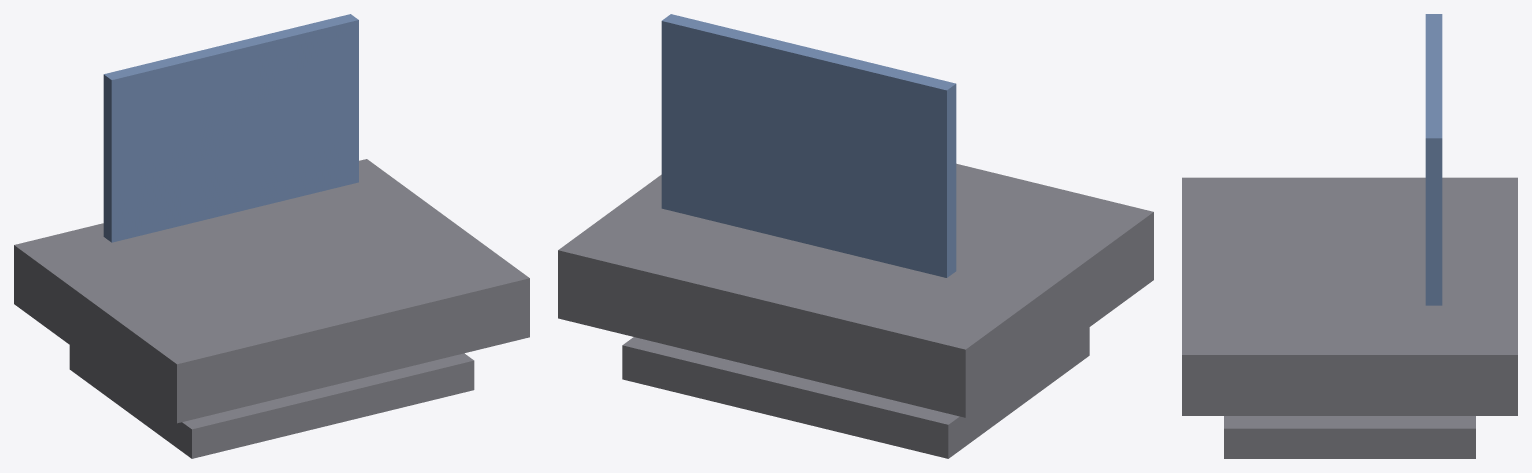
The model's file is register.glb.
The picture shows the model from 3 angles, left to right: view 1: azimuth 30°, elevation 25°; view 2: azimuth 150°, elevation 25°; view 3: azimuth 270°, elevation 25°; orthographic projection. The views are drawn at different scales.
Parts seen in each view (by area): view 1: body, screen, base; view 2: body, screen, base; view 3: body, base, screen.
Boxes of the visible parts, <box> form: body: <box>14,159,529,423</box>; screen: <box>103,14,358,242</box>; base: <box>69,345,474,458</box>; body: <box>558,163,1153,417</box>; screen: <box>661,14,956,277</box>; base: <box>622,327,1089,458</box>; body: <box>1182,177,1517,415</box>; base: <box>1224,416,1475,458</box>; screen: <box>1425,14,1442,305</box>.
Size of the model in its own units: 0.5 by 0.41 by 0.4.
